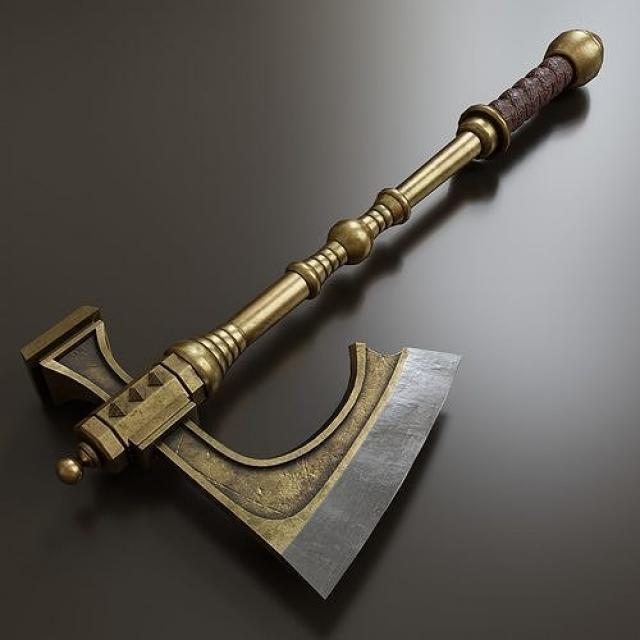axe: (20, 28, 607, 605)
